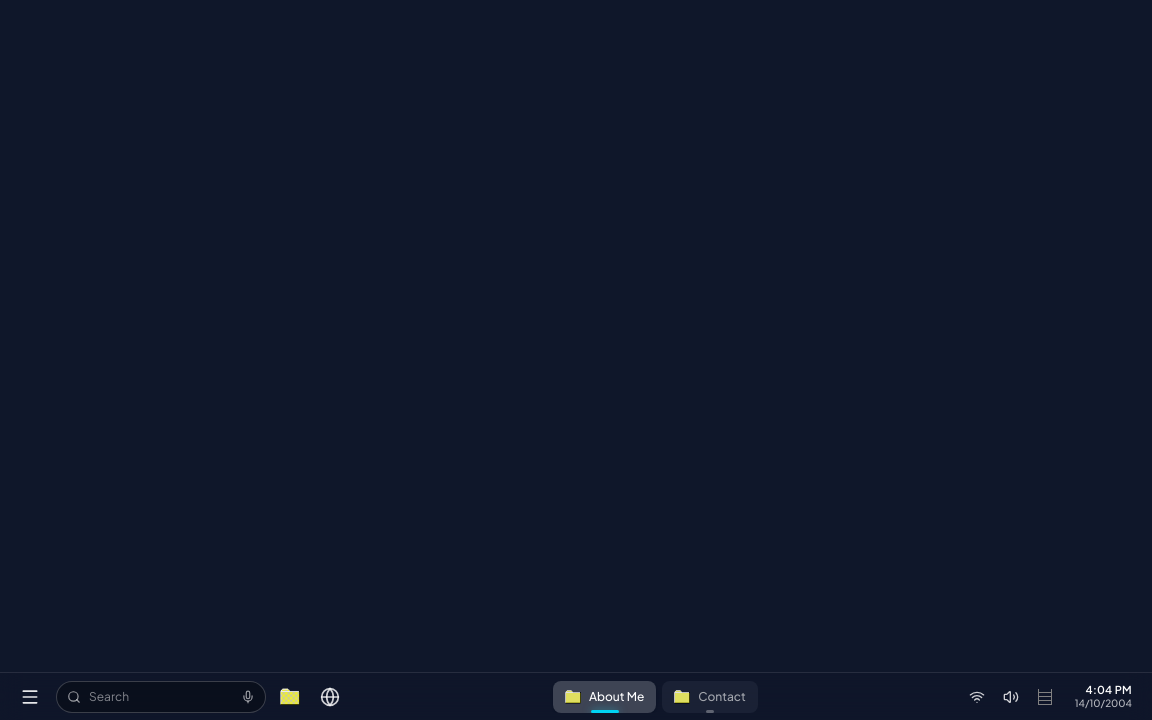
Taskbar Component › closes Start Menu when pressing Escape
This screenshot has width=1152, height=720.
Click the button named "start": coordinates (30, 696) [12,678,48,714]
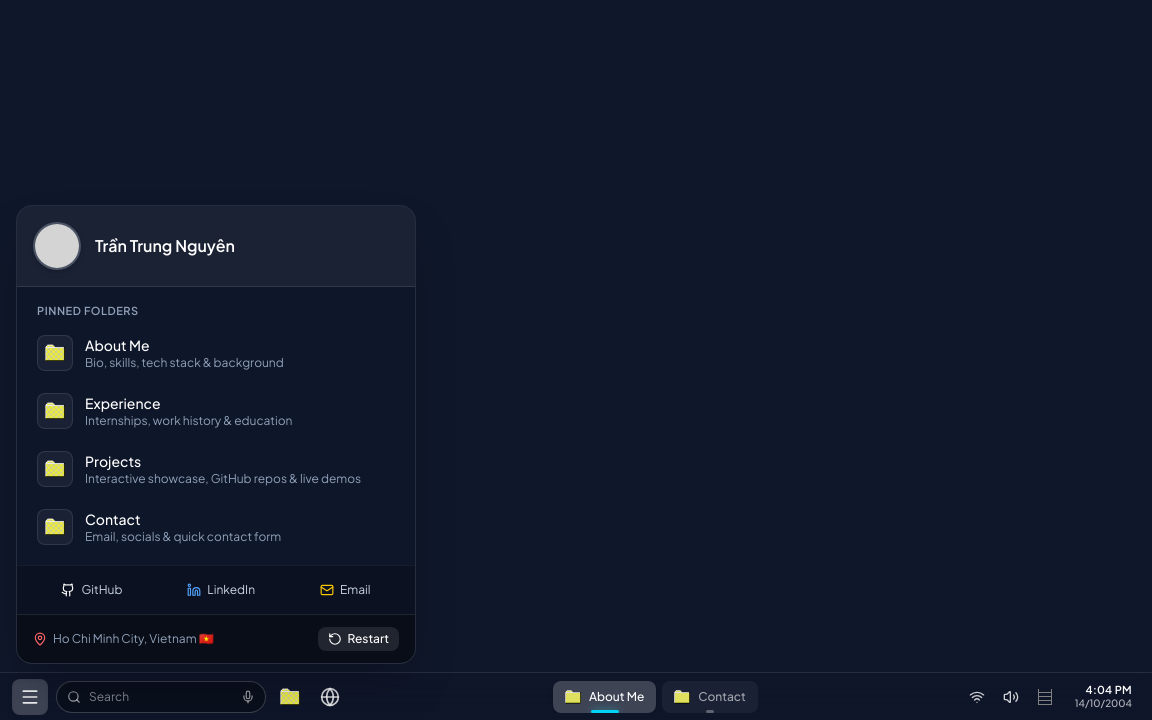
Expected: the heading "Trần Trung Nguyên" is shown, [95,234,235,256]
Press Escape
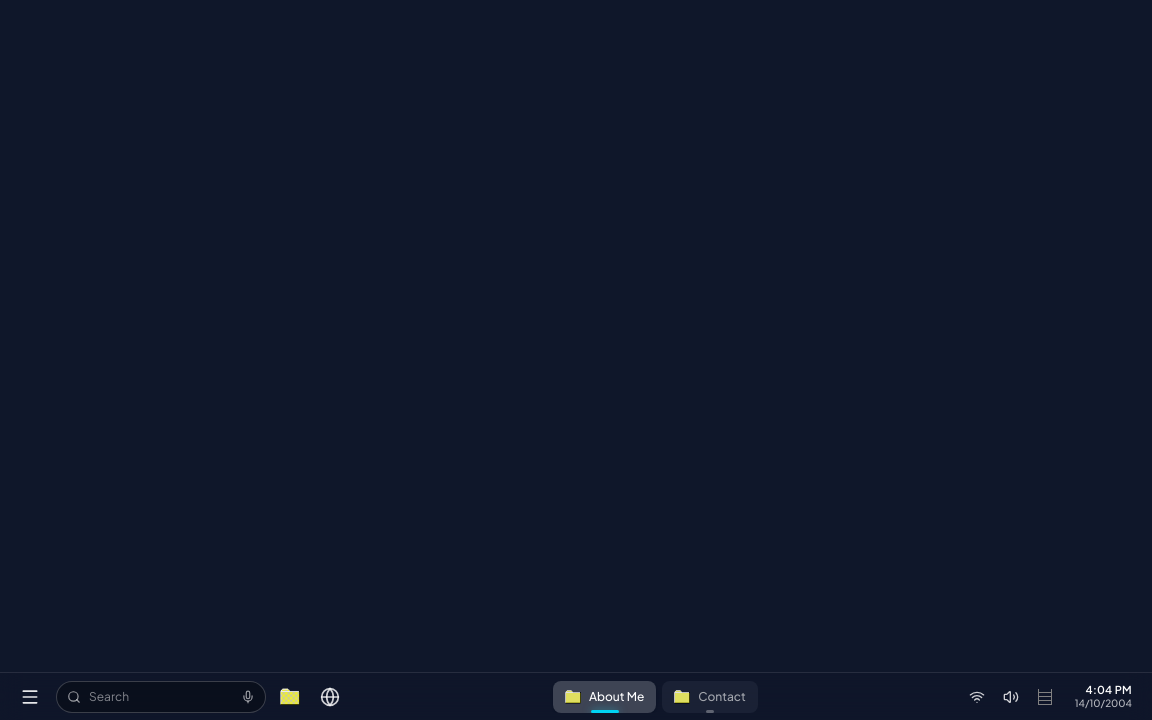
Expected: the heading "Trần Trung Nguyên" is gone
